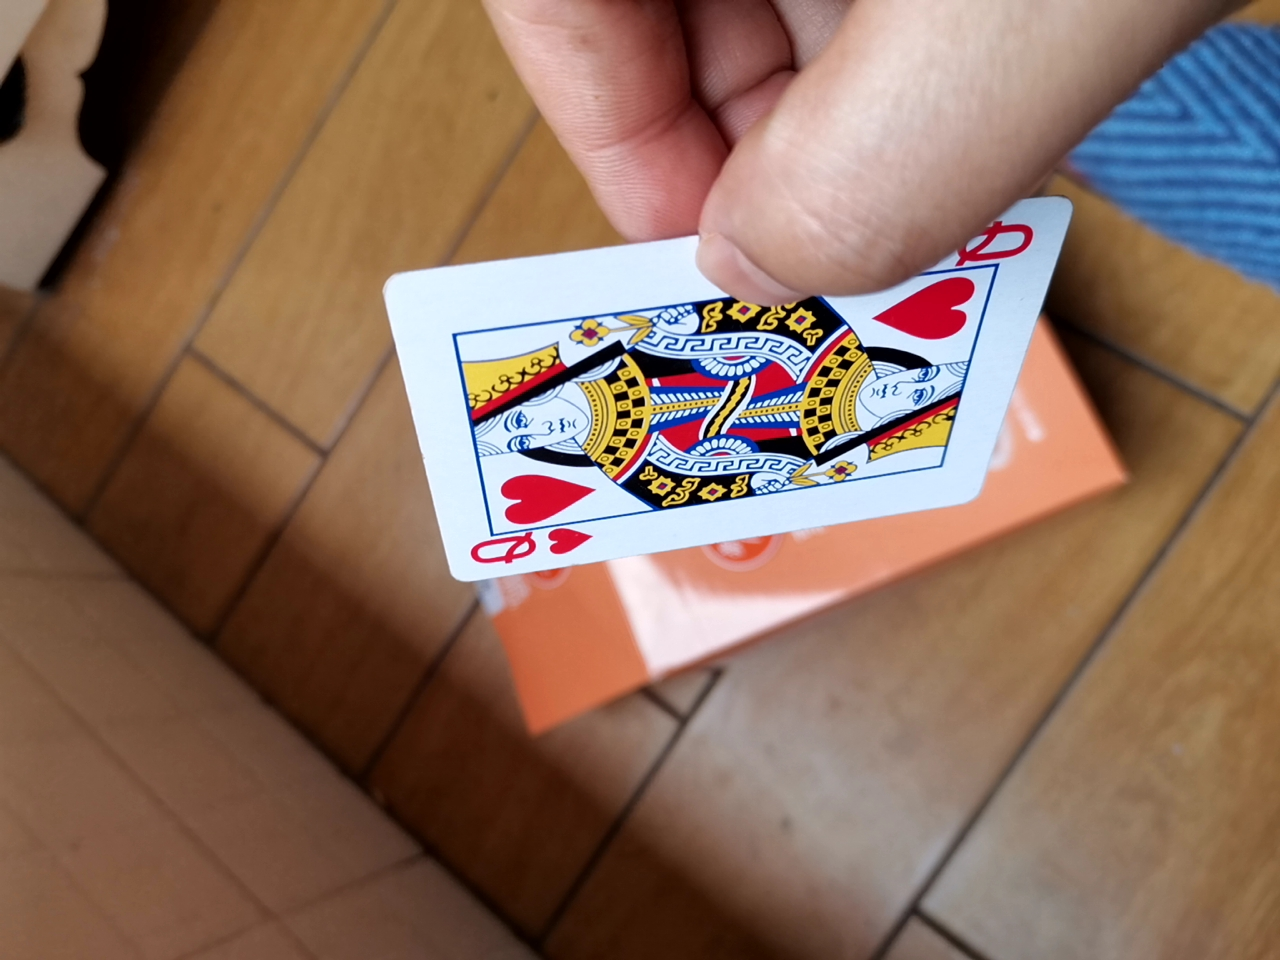hx q: (372, 201, 1077, 578)
